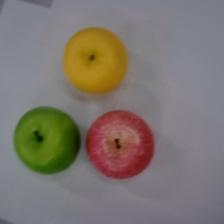green: (13, 107, 81, 174)
red: (86, 110, 154, 179)
yellow: (63, 27, 128, 93)
